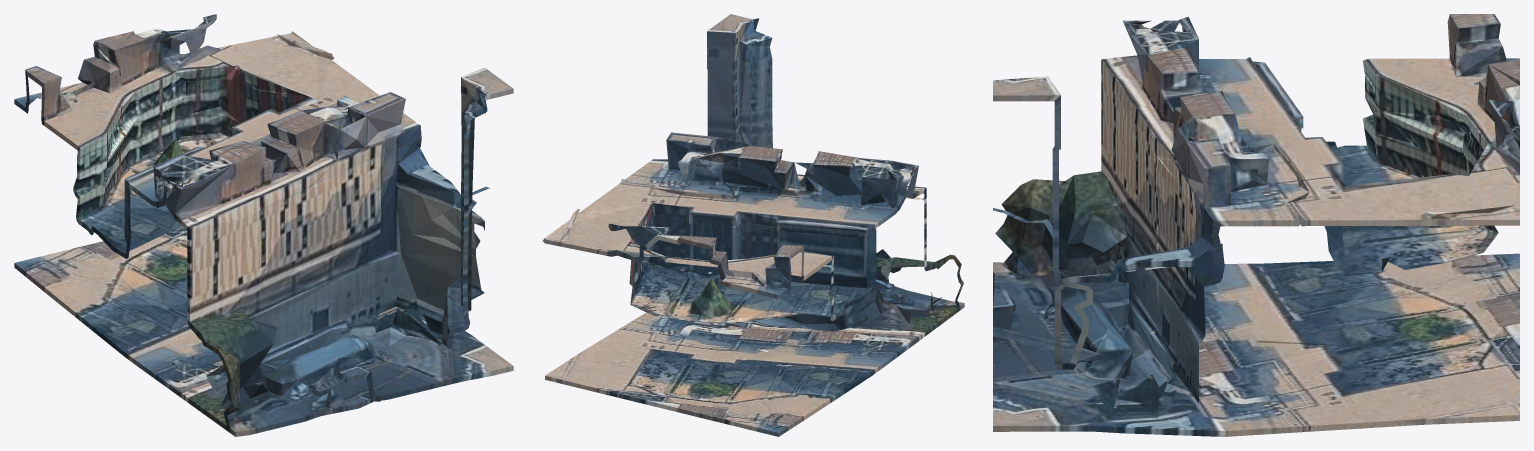
The model's file is chunk_-5_2.glb.
3 renders of one model, left to right at view 1: azimuth 30°, elevation 25°; view 2: azimuth 150°, elevation 25°; view 3: azimuth 270°, elevation 25°, orthographic. The views are drawn at different scales.
Parts seen in each view (by area): view 1: hero-chunk; view 2: hero-chunk; view 3: hero-chunk.
Boxes of the visible parts, x1,y1,x2,y2 form: hero-chunk: (14, 14, 513, 436); hero-chunk: (542, 14, 964, 436); hero-chunk: (993, 14, 1519, 436).
Bounding box in the file's own units: 56.35 × 58.34 × 76.32.
Materials: 3 (3 with a texture image).
